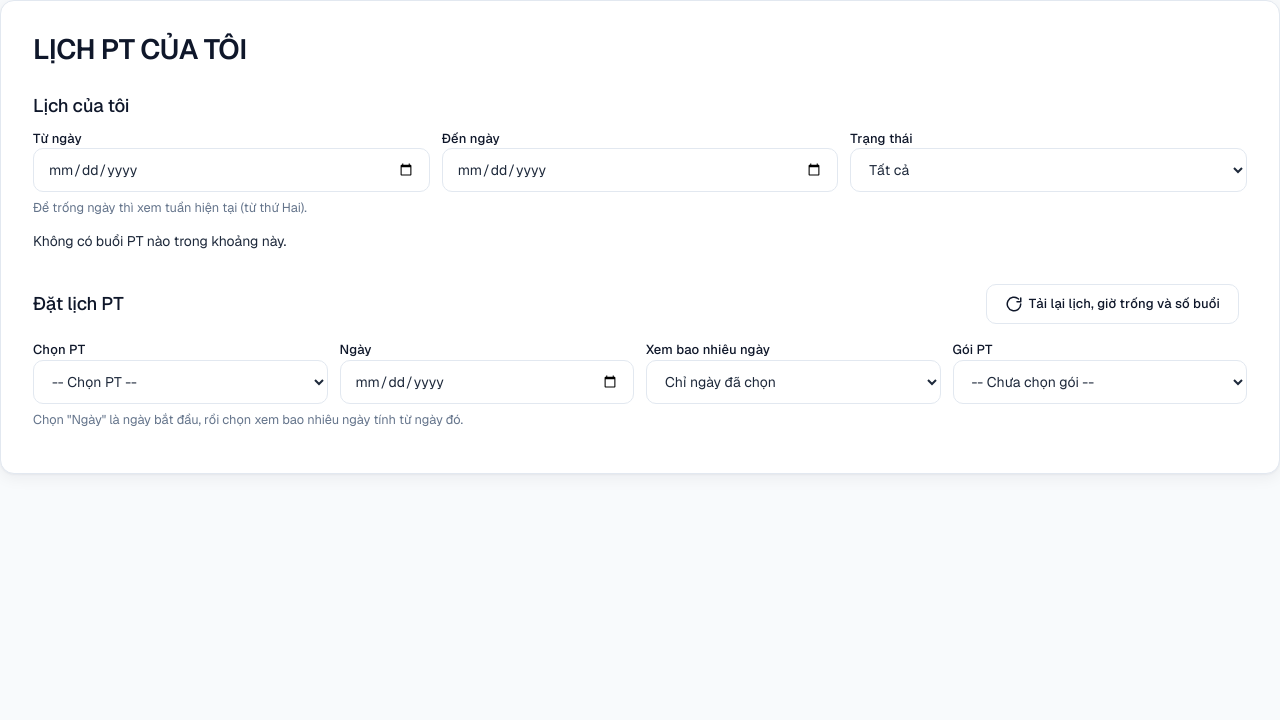
US-27 bước 3: trang /member/pt-bookings › US-27-TC12: gói hết số buổi → mọi slot khóa và hiện "Gói đã hết số buổi"
This screenshot has width=1280, height=720.
Select "PT Trần Văn Bình" in the dropdown labelled "Chọn PT": point(180, 382) [33,360,328,404]
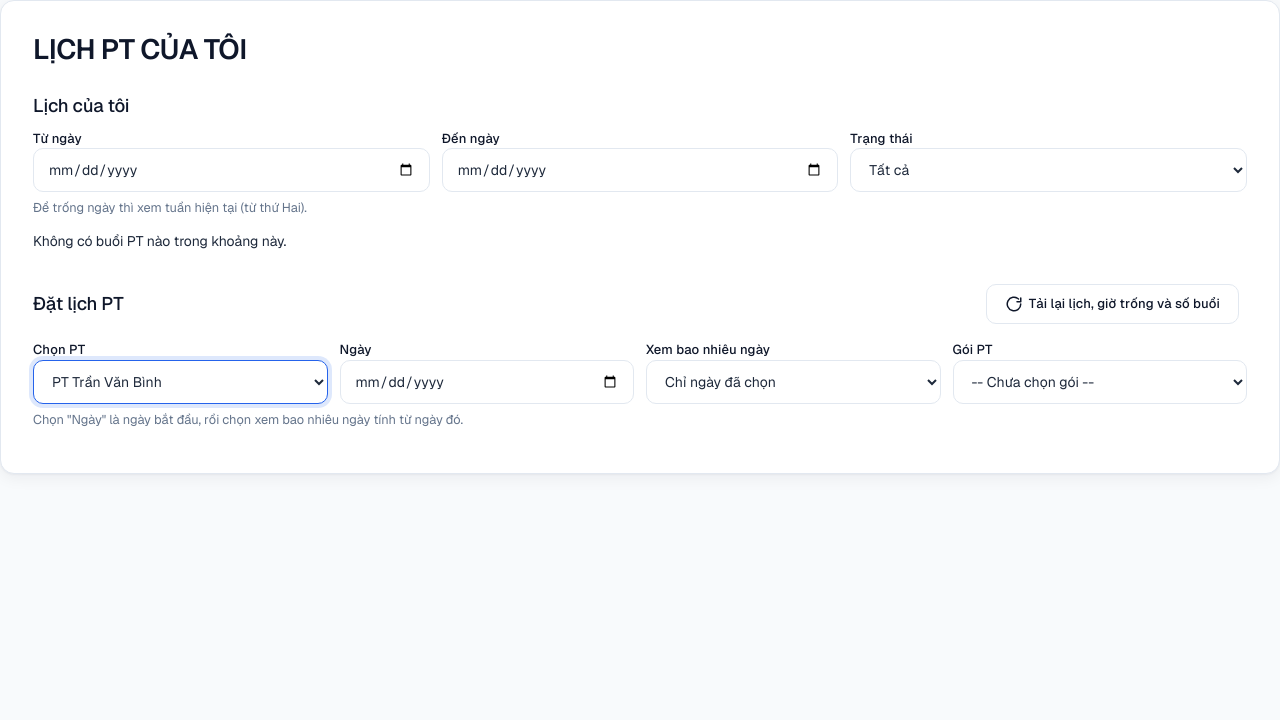
In the date field labelled "Ngày": point(487, 382) [340,360,634,404], type "2026-11-25"
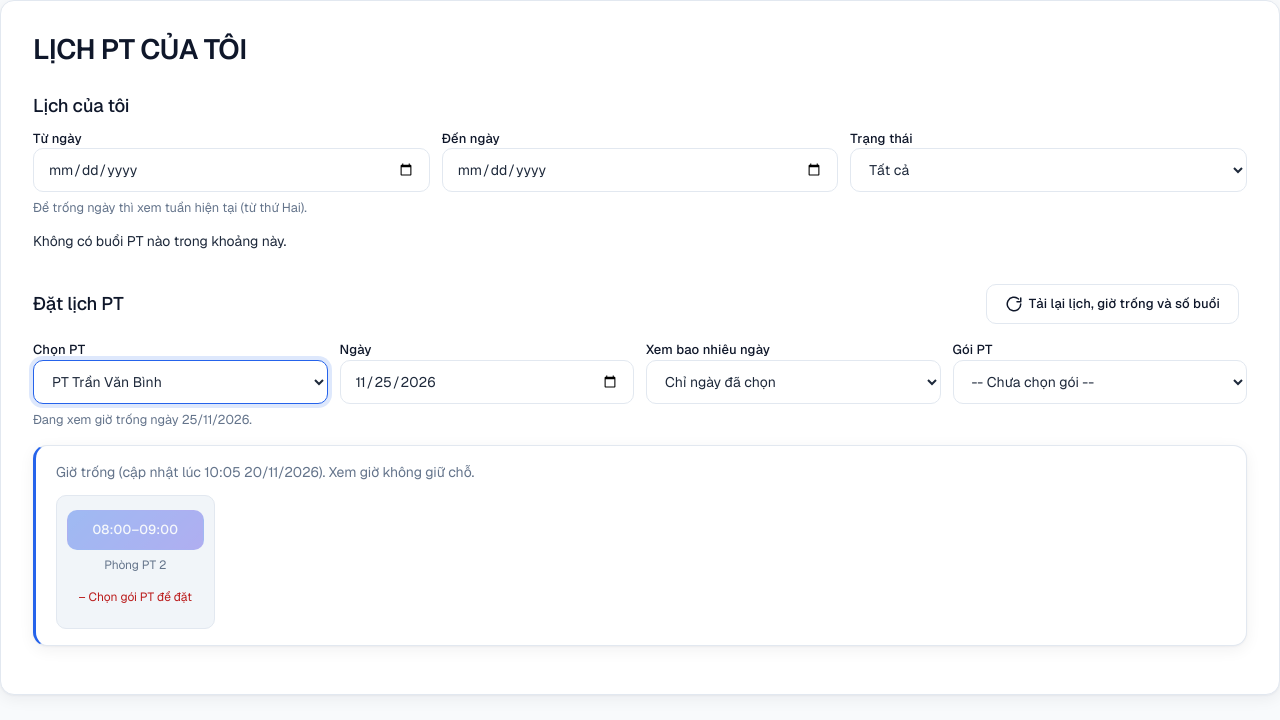
Select "PT 10 buổi" in the dropdown labelled "Gói PT": point(1100, 382) [952,360,1247,404]
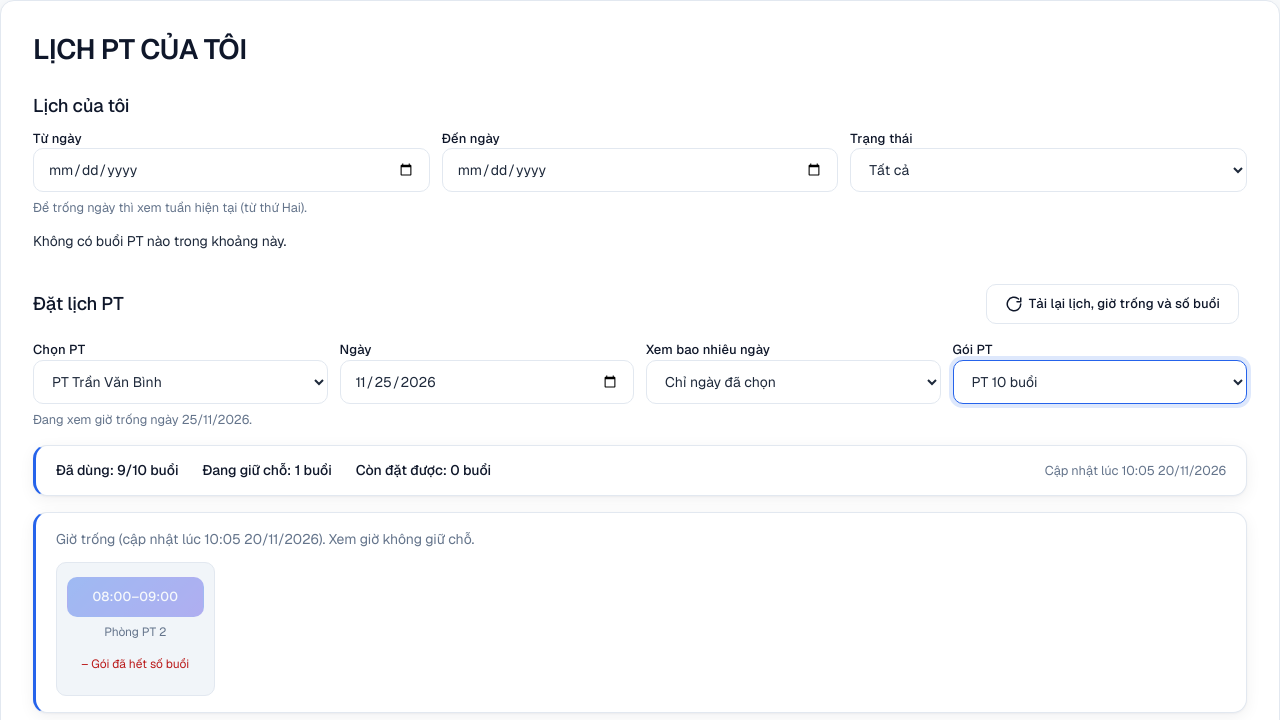
Result: the button "08:00–09:00" is disabled at [67,577,204,617]
Result: the text "– Gói đã hết số buổi" is shown at [81,656,189,672]
